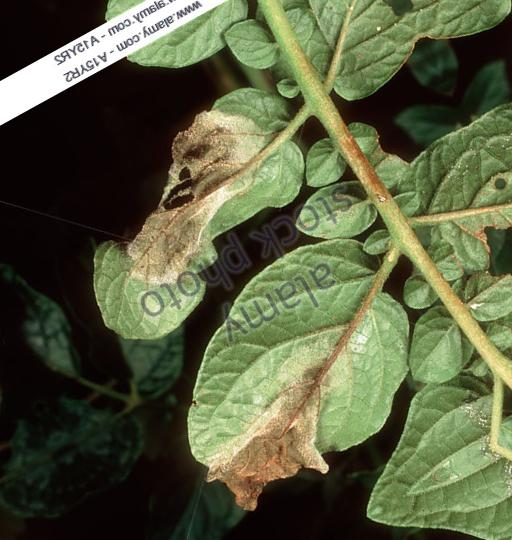Tomato leaf late blight: (118, 215, 459, 536), (28, 65, 368, 368)
